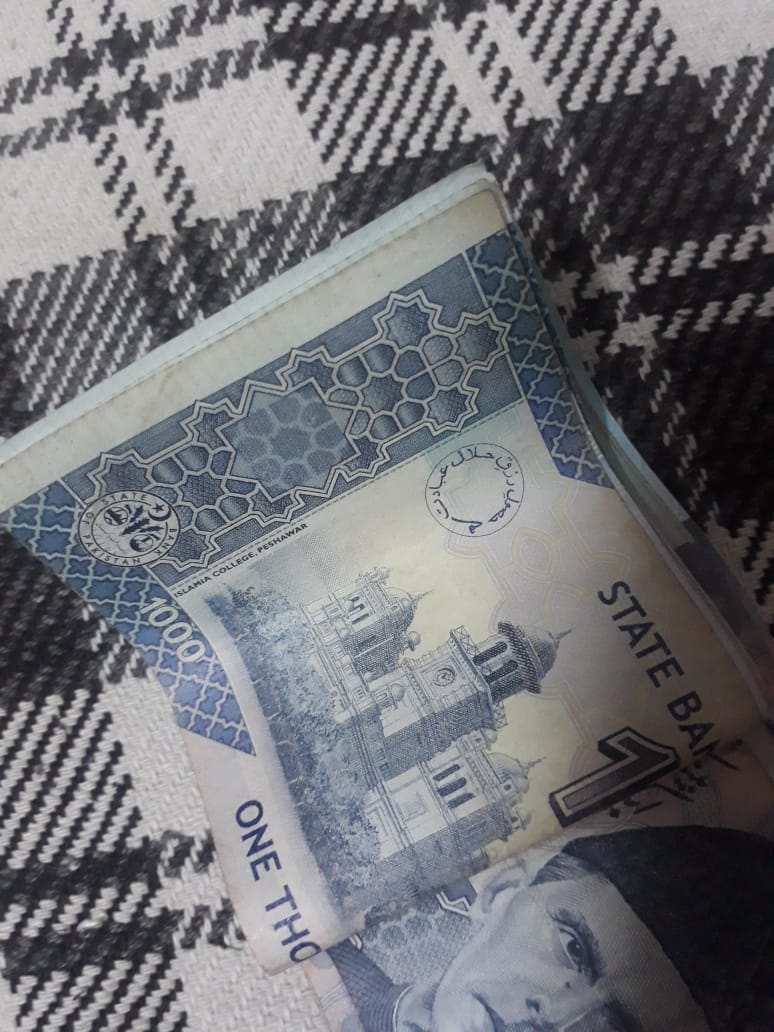1000 rupee: (25, 180, 751, 979)
